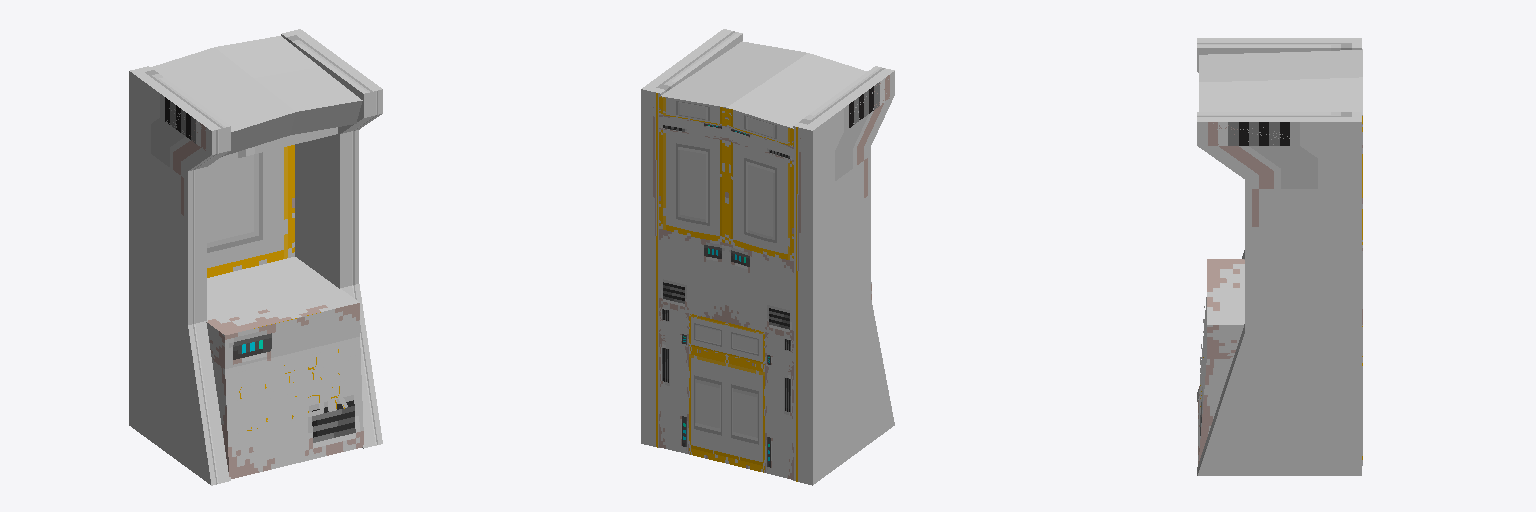
3 renders of one model, left to right at view 1: azimuth 30°, elevation 25°; view 2: azimuth 150°, elevation 25°; view 3: azimuth 270°, elevation 25°, orthographic.
Visible parts, largest first — view 1: Cube, Cube.001, Text, Cube.002; view 2: Cube, Cube.001; view 3: Cube.001, Cube.
Part boxes in pixels (left/top/right/bottom): Cube: left=151, top=36, right=363, bottom=478; Cube.001: left=129, top=29, right=382, bottom=485; Text: left=233, top=348, right=356, bottom=434; Cube.002: left=211, top=127, right=337, bottom=164; Cube: left=659, top=41, right=871, bottom=479; Cube.001: left=641, top=29, right=894, bottom=485; Cube.001: left=1197, top=38, right=1361, bottom=475; Cube: left=1198, top=49, right=1362, bottom=465.
Size of the model in its own units: 1.27 by 2.53 by 1.06.
Materials: 1 (1 with a texture image).